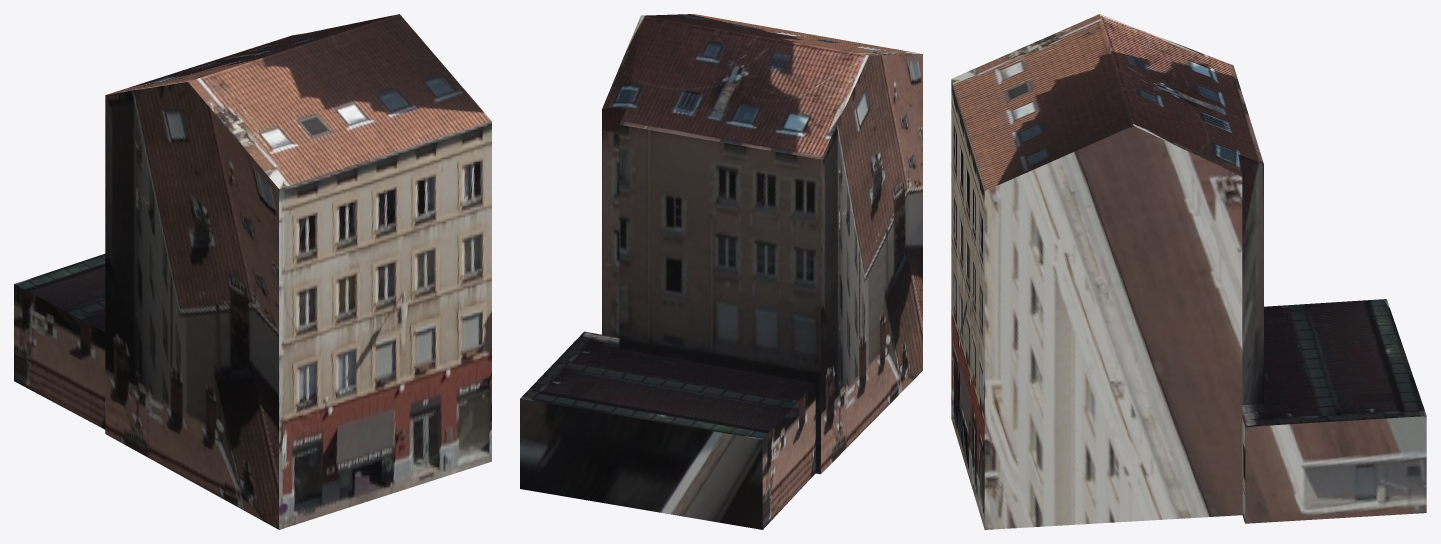
3 renders of one model, left to right at view 1: azimuth 30°, elevation 25°; view 2: azimuth 150°, elevation 25°; view 3: azimuth 270°, elevation 25°, orthographic. The views are drawn at different scales.
Visible parts, largest first — view 1: Z_UP; view 2: Z_UP; view 3: Z_UP.
Part boxes in pixels (x1,y1,x2,y2): Z_UP: [14, 14, 491, 529]; Z_UP: [520, 14, 922, 529]; Z_UP: [951, 14, 1426, 529].
Size of the model in its own units: 14.89 by 20.51 by 22.31.
2 materials, 1 textured.
